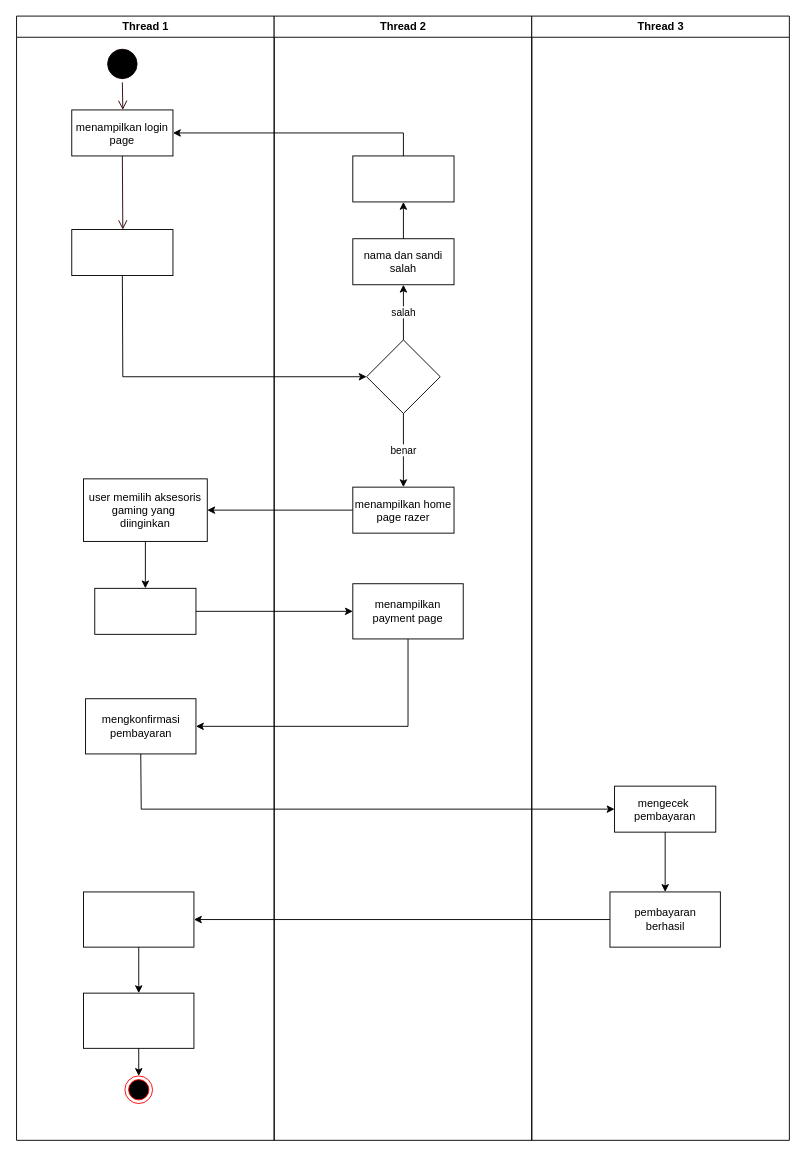
This 805x1156 diagram has some shape labels left out. The centre of each missing label's shape, as x and y in pixels:
"benar/salah" goes at point (403, 376).
"berhasil membayar" goes at point (138, 919).
"kembali ke menu login page" goes at point (403, 178).
"menginput nama dan sandi" goes at point (122, 252).
"menunggu barang dikirim" goes at point (138, 1020).
"user mencheckout barang" goes at point (145, 610).
